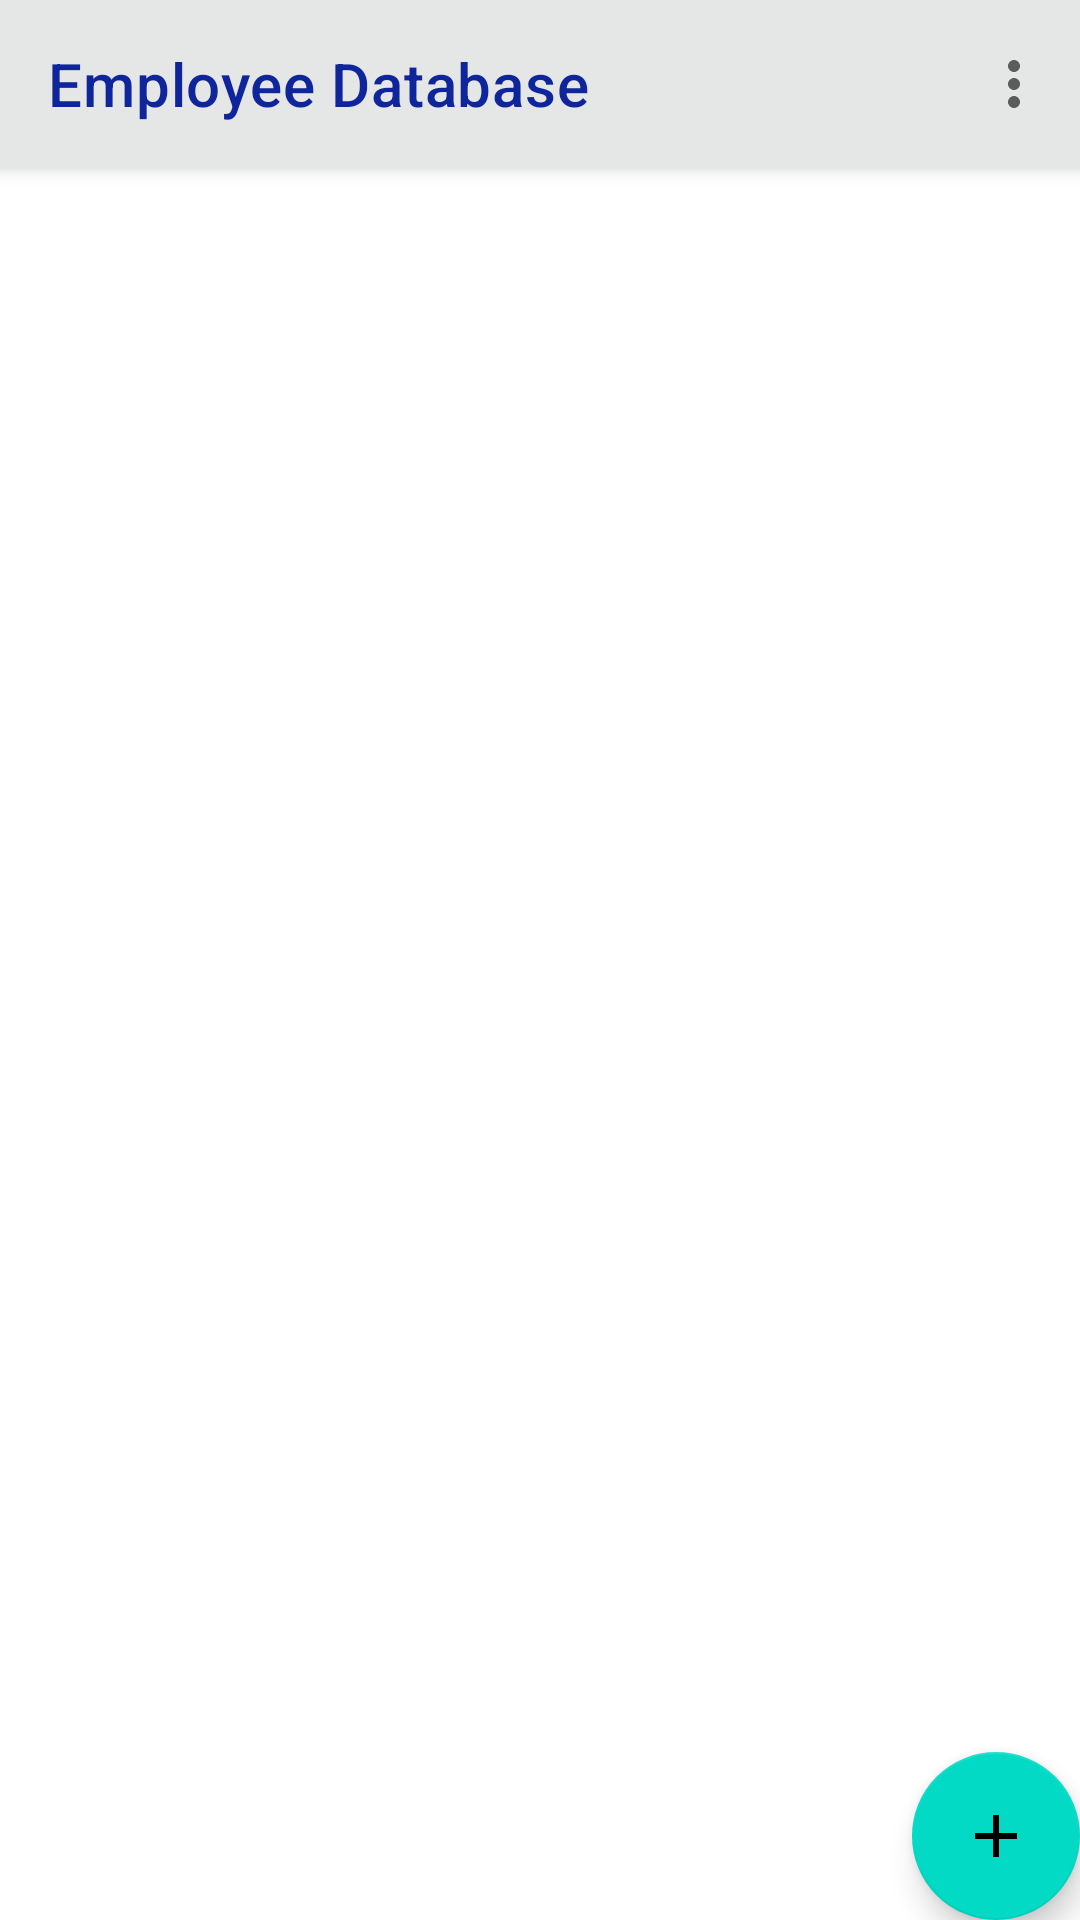

Named icons in this screenshot (1080px×1920px) and their centers, (x=x, y=y):
Add New: (x=996, y=1836)
